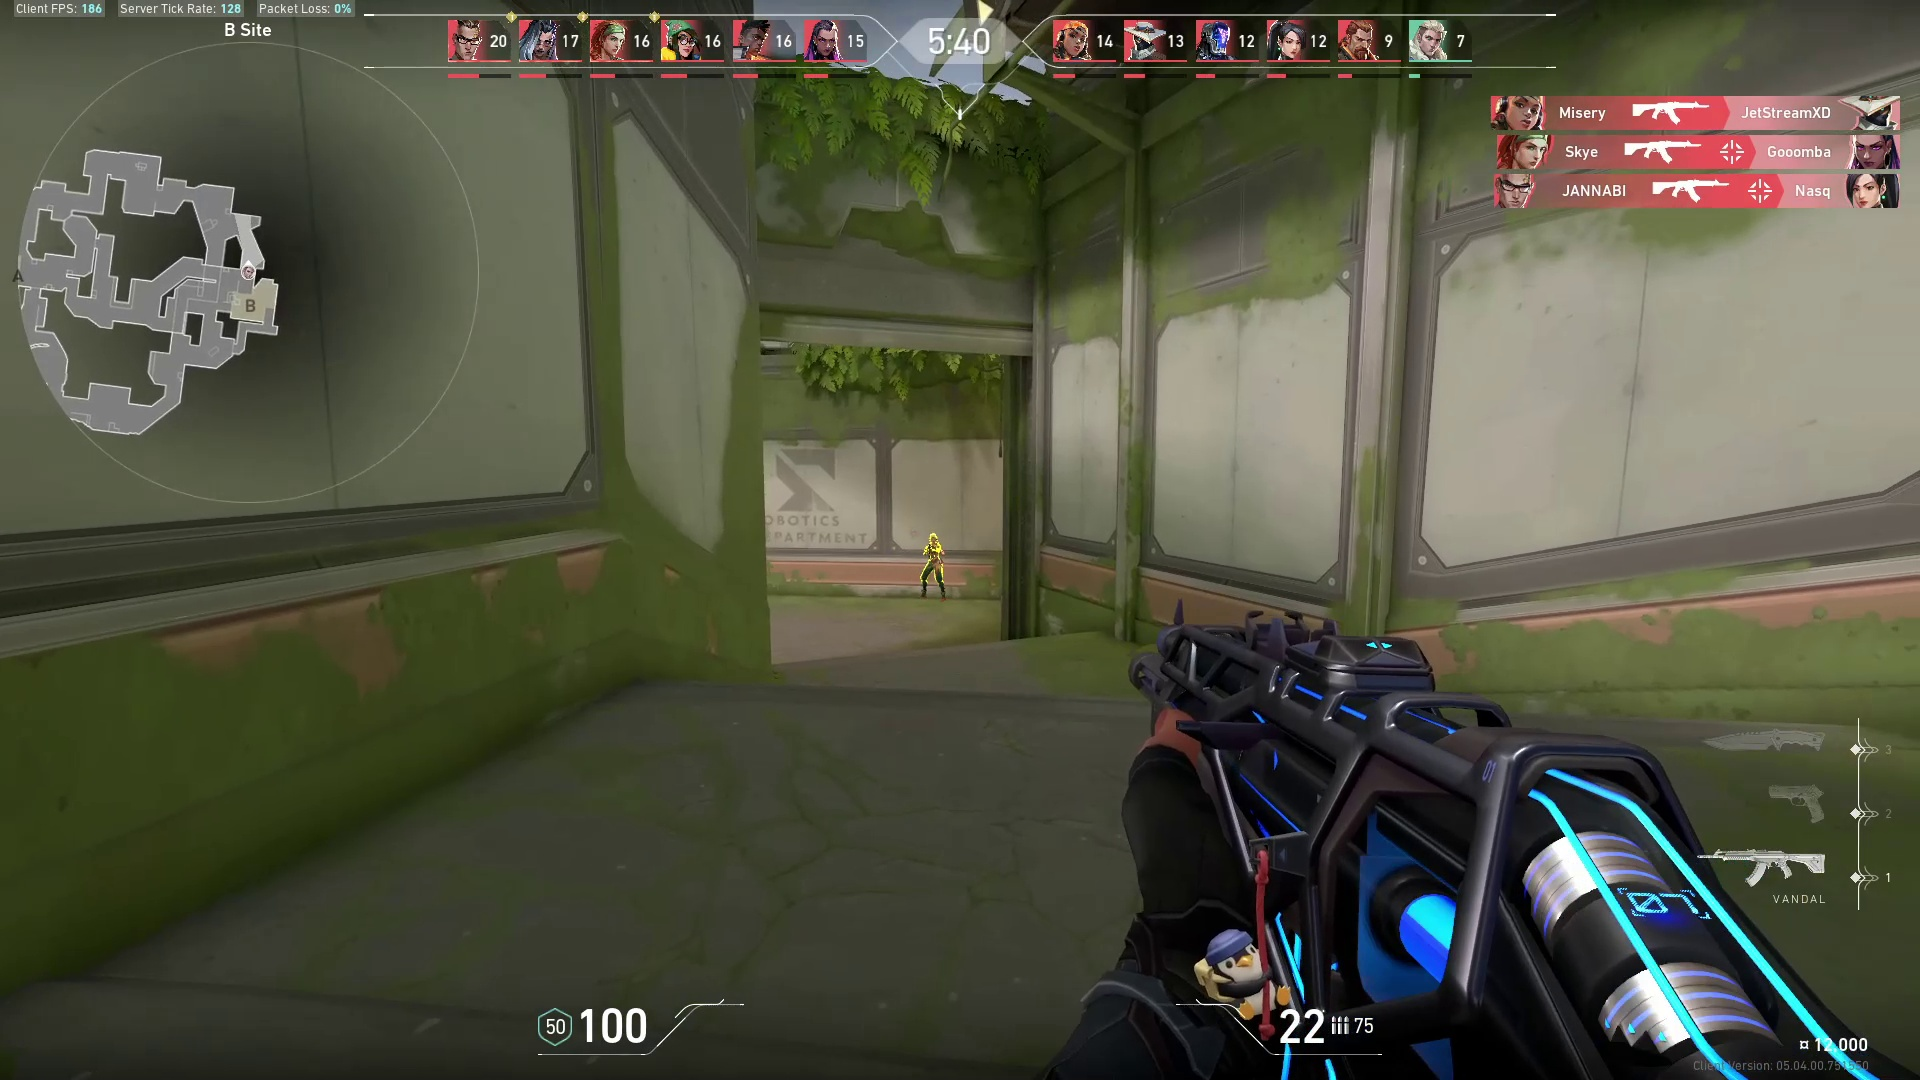1: (918, 545, 952, 603)
["enemy_head", "enemy_body", "enemy_gen", "dog"]: (927, 530, 939, 545)
